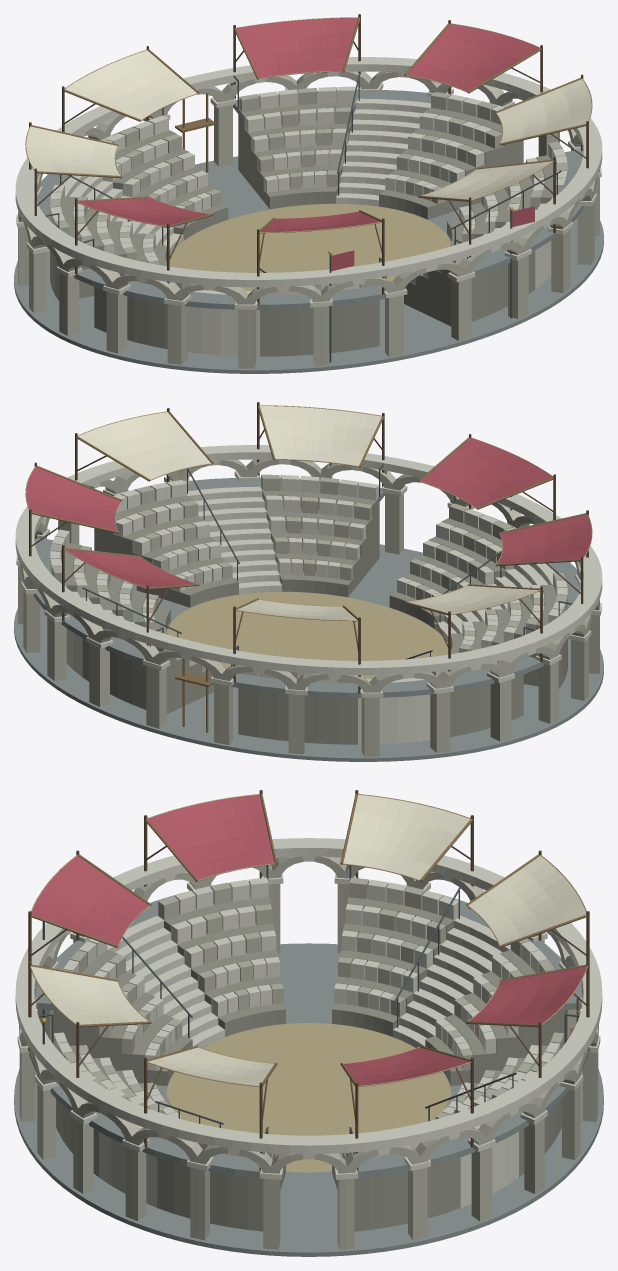
The model's file is amphitheater.glb.
The picture shows the model from 3 angles, top to bottom: view 1: azimuth 30°, elevation 25°; view 2: azimuth 150°, elevation 25°; view 3: azimuth 270°, elevation 25°; orthographic projection. The views are drawn at different scales.
Visible parts, largest first — view 1: ArcadePiers_mesh, Cornice_mesh, Foundation_mesh, SeatingTerrace.004_mesh, Arena_mesh, AisleStairs_mesh, ArcadeArches_mesh, CanopyMasts_mesh, Promenade_mesh, SeatRow.004_mesh, Velarium.004_mesh, SeatRow.003_mesh (+15 smaller); view 2: ArcadePiers_mesh, Cornice_mesh, Foundation_mesh, SeatingTerrace.004_mesh, Arena_mesh, AisleStairs_mesh, ArcadeArches_mesh, CanopyMasts_mesh, Promenade_mesh, SeatRow.004_mesh, Velarium.003_mesh, SeatRow.003_mesh (+15 smaller); view 3: Foundation_mesh, Arena_mesh, Cornice_mesh, ArcadePiers_mesh, AisleStairs_mesh, SeatingTerrace.004_mesh, ArcadeArches_mesh, CanopyMasts_mesh, SeatRow.004_mesh, Promenade_mesh, Velarium.002_mesh, Velarium.005_mesh (+14 smaller).
Part boxes in pixels (left/top/right/bottom): ArcadePiers_mesh: left=16, top=83, right=601, bottom=368; Cornice_mesh: left=15, top=57, right=602, bottom=287; Foundation_mesh: left=14, top=156, right=603, bottom=373; SeatingTerrace.004_mesh: left=50, top=99, right=567, bottom=356; Arena_mesh: left=169, top=204, right=450, bottom=290; AisleStairs_mesh: left=60, top=71, right=561, bottom=356; ArcadeArches_mesh: left=18, top=71, right=599, bottom=304; CanopyMasts_mesh: left=25, top=14, right=592, bottom=305; Promenade_mesh: left=37, top=75, right=583, bottom=309; SeatRow.004_mesh: left=50, top=86, right=567, bottom=295; Velarium.004_mesh: left=236, top=18, right=357, bottom=77; SeatRow.003_mesh: left=73, top=107, right=544, bottom=272; ArcadePiers_mesh: left=16, top=471, right=601, bottom=756; Cornice_mesh: left=15, top=445, right=602, bottom=675; Foundation_mesh: left=14, top=544, right=603, bottom=761; SeatingTerrace.004_mesh: left=50, top=486, right=567, bottom=744; Arena_mesh: left=167, top=592, right=448, bottom=678; AisleStairs_mesh: left=65, top=468, right=554, bottom=744; ArcadeArches_mesh: left=18, top=459, right=599, bottom=692; CanopyMasts_mesh: left=25, top=402, right=592, bottom=693; Promenade_mesh: left=34, top=463, right=580, bottom=697; SeatRow.004_mesh: left=50, top=474, right=567, bottom=683; Velarium.003_mesh: left=260, top=406, right=381, bottom=465; SeatRow.003_mesh: left=73, top=495, right=544, bottom=660; Foundation_mesh: left=14, top=943, right=603, bottom=1256; Arena_mesh: left=166, top=1023, right=451, bottom=1172; Cornice_mesh: left=15, top=838, right=602, bottom=1154; ArcadePiers_mesh: left=17, top=873, right=600, bottom=1249; AisleStairs_mesh: left=99, top=884, right=518, bottom=1207; SeatingTerrace.004_mesh: left=53, top=895, right=564, bottom=1231; ArcadeArches_mesh: left=18, top=856, right=599, bottom=1173; CanopyMasts_mesh: left=28, top=790, right=589, bottom=1171; SeatRow.004_mesh: left=53, top=877, right=564, bottom=1156; Promenade_mesh: left=29, top=865, right=588, bottom=1177; Velarium.002_mesh: left=147, top=794, right=274, bottom=879; Velarium.005_mesh: left=343, top=795, right=470, bottom=879.
Size of the model in its own units: 18.35 by 4.58 by 14.8.
